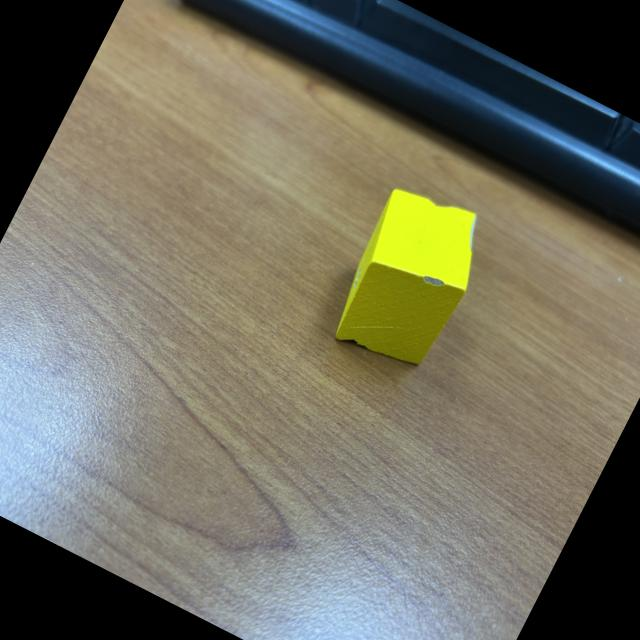broken: (318, 175, 500, 384)
